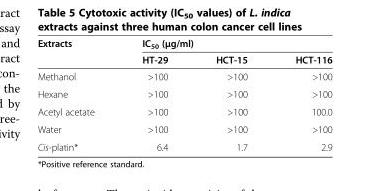table: (36, 36, 331, 152)
table column: (36, 36, 117, 152), (191, 36, 270, 152), (117, 36, 191, 152), (270, 36, 331, 152)
table column header: (36, 36, 331, 67)
table row: (36, 84, 331, 102), (36, 102, 331, 120), (36, 67, 331, 84), (36, 120, 331, 137), (36, 51, 331, 67), (36, 36, 331, 51), (36, 137, 331, 152)
table spanning cell: (117, 36, 331, 51), (36, 36, 117, 67)
